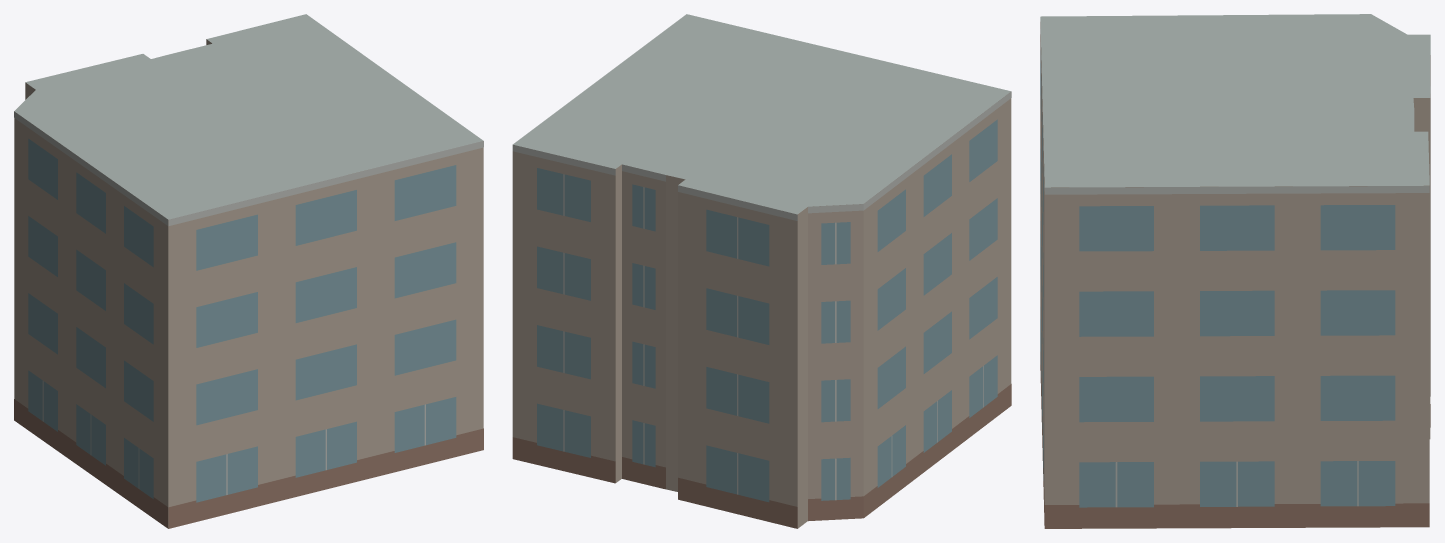
Rendered from survey-upis-32631359.glb.
The picture shows the model from 3 angles, left to right: view 1: azimuth 30°, elevation 25°; view 2: azimuth 150°, elevation 25°; view 3: azimuth 270°, elevation 25°; orthographic projection. The views are drawn at different scales.
Parts seen in each view (by area): view 1: survey-upis-32631359.tmp; view 2: survey-upis-32631359.tmp; view 3: survey-upis-32631359.tmp.
Part boxes in pixels (x1,y1,x2,y2): survey-upis-32631359.tmp: (14, 14, 483, 528); survey-upis-32631359.tmp: (512, 14, 1011, 528); survey-upis-32631359.tmp: (1040, 14, 1430, 528).
Size of the model in its own units: 12.54 by 11.5 by 11.93.
